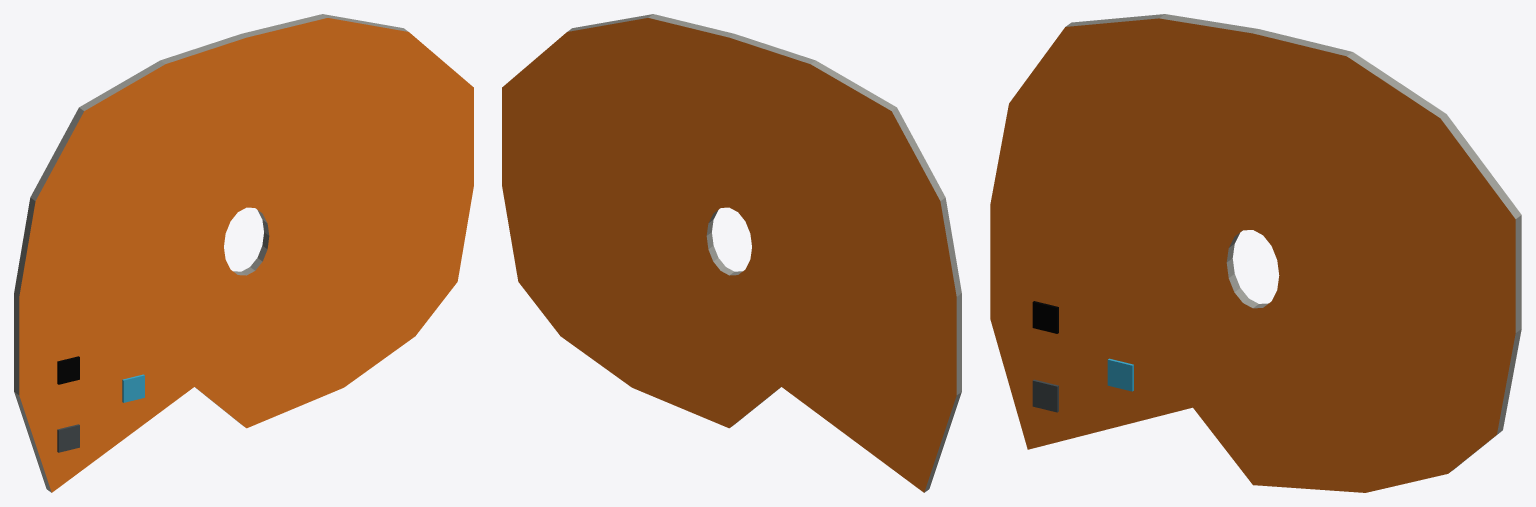
The model's file is item_palette3.obj.
3 renders of one model, left to right at view 1: azimuth 30°, elevation 25°; view 2: azimuth 150°, elevation 25°; view 3: azimuth 330°, elevation 25°, orthographic. The views are drawn at different scales.
Parts seen in each view (by area): view 1: wooden_palette_with_open_thumb_hole_and_grip_notch, native_cumulative_paint_state; view 2: wooden_palette_with_open_thumb_hole_and_grip_notch; view 3: wooden_palette_with_open_thumb_hole_and_grip_notch, native_cumulative_paint_state.
Part boxes in pixels (bbox=[...]): wooden_palette_with_open_thumb_hole_and_grip_notch: bbox=[14, 14, 473, 492]; native_cumulative_paint_state: bbox=[57, 356, 144, 452]; wooden_palette_with_open_thumb_hole_and_grip_notch: bbox=[502, 14, 961, 492]; wooden_palette_with_open_thumb_hole_and_grip_notch: bbox=[990, 14, 1521, 492]; native_cumulative_paint_state: bbox=[1032, 301, 1133, 412].
Size of the model in its own units: 0.875 by 0.75 by 0.0219.
